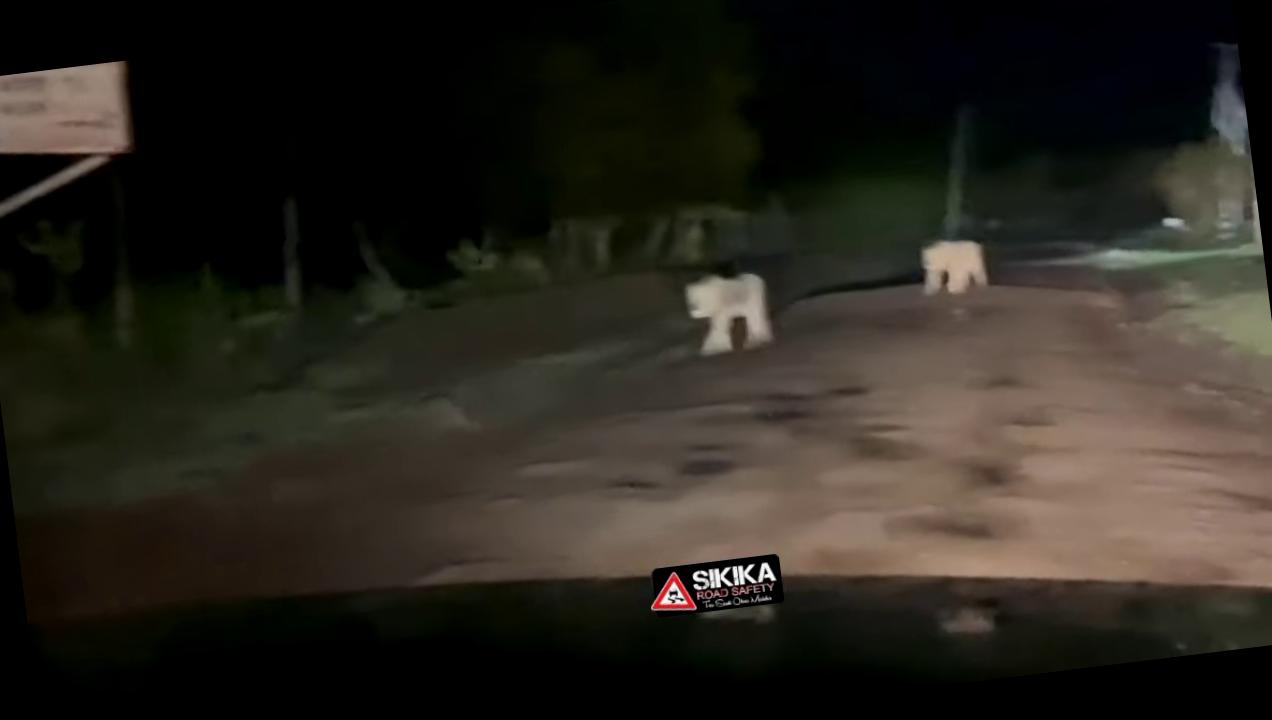lions: (670, 244, 799, 368), (898, 218, 1024, 318)
